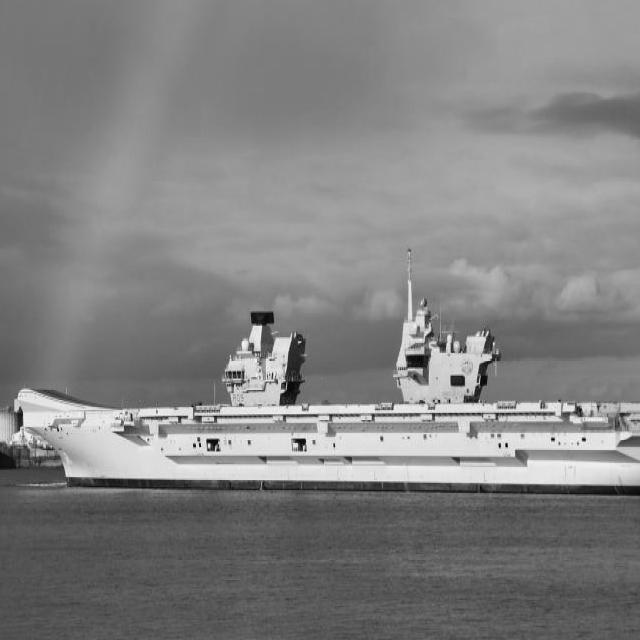Portanaves: (13, 251, 640, 491)
